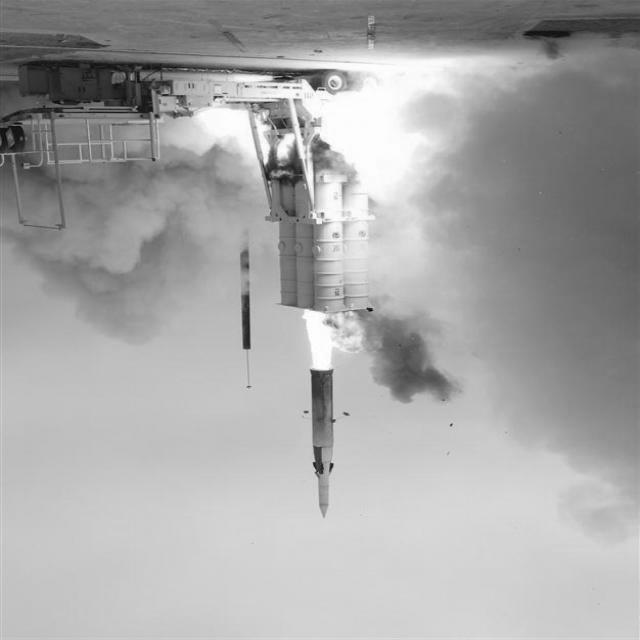missile: (303, 357, 342, 520), (239, 224, 255, 362)
